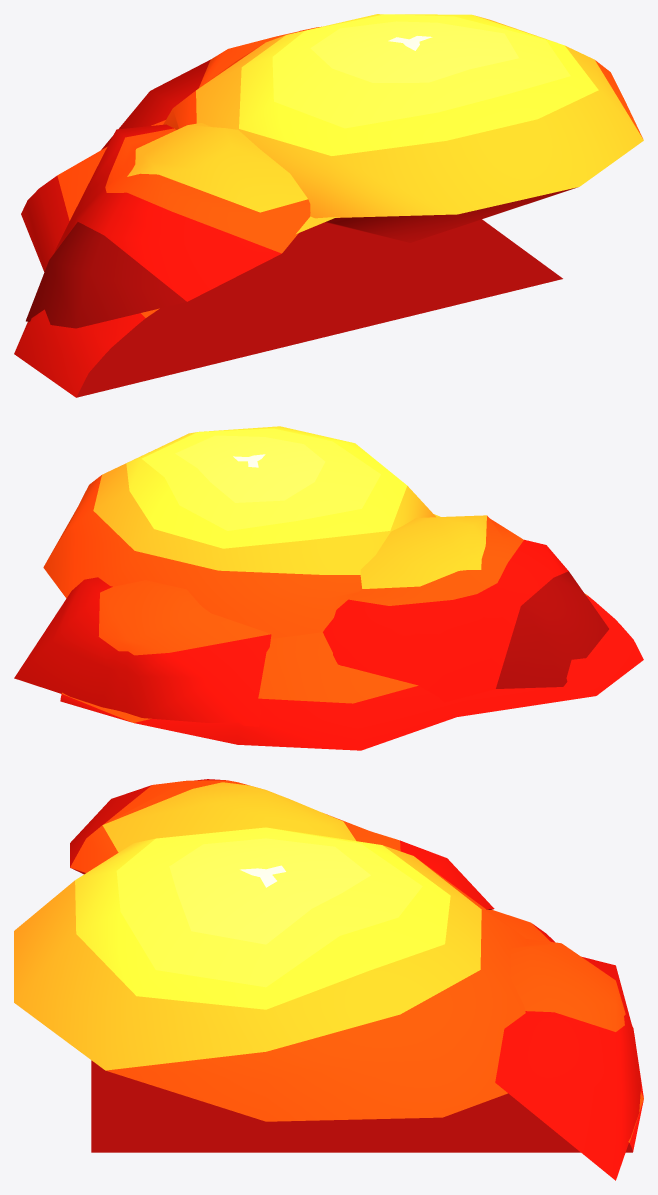
File: shot_zflame_176.glb
3 renders of one model, top to bottom at view 1: azimuth 30°, elevation 25°; view 2: azimuth 150°, elevation 25°; view 3: azimuth 270°, elevation 25°, orthographic. The views are drawn at different scales.
Visible parts, largest first — view 1: zflame_4_billow0_b176, zflame_4_bed_b176, zflame_4_billow4_b176, zflame_4_billow5_b176; view 2: zflame_4_billow0_b176, zflame_4_billow4_b176, zflame_4_billow5_b176, zflame_4_bed_b176; view 3: zflame_4_billow0_b176, zflame_4_billow5_b176, zflame_4_bed_b176, zflame_4_billow4_b176.
Part boxes in pixels (box(x1,y1,x2,y2)): zflame_4_billow0_b176: box(163, 14, 643, 242); zflame_4_bed_b176: box(14, 120, 562, 397); zflame_4_billow4_b176: box(26, 123, 310, 328); zflame_4_billow5_b176: box(101, 26, 321, 149); zflame_4_billow0_b176: box(43, 426, 435, 638); zflame_4_billow4_b176: box(323, 515, 608, 702); zflame_4_billow5_b176: box(14, 577, 271, 726); zflame_4_bed_b176: box(60, 514, 643, 750); zflame_4_billow0_b176: box(14, 827, 528, 1121); zflame_4_billow5_b176: box(495, 939, 641, 1180); zflame_4_bed_b176: box(91, 909, 643, 1152); zflame_4_billow4_b176: box(70, 779, 494, 909).
Bounding box in the file's own units: 12.01 × 3.71 × 9.01.
